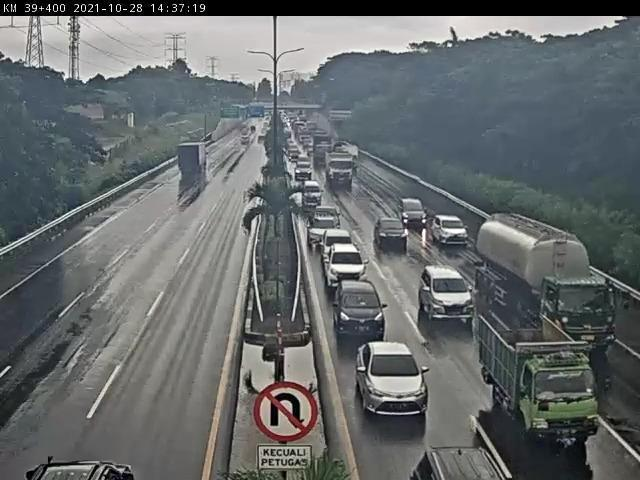car: (355, 345, 435, 422), (419, 267, 476, 328), (333, 281, 391, 339), (411, 449, 508, 480), (324, 243, 375, 296), (432, 215, 475, 251), (320, 229, 355, 261), (305, 214, 338, 244), (401, 198, 430, 229), (317, 206, 346, 232), (373, 213, 403, 237), (302, 182, 326, 208), (294, 159, 317, 179)
truck: (472, 211, 618, 352), (478, 314, 600, 448), (175, 141, 211, 175), (328, 154, 355, 186)
